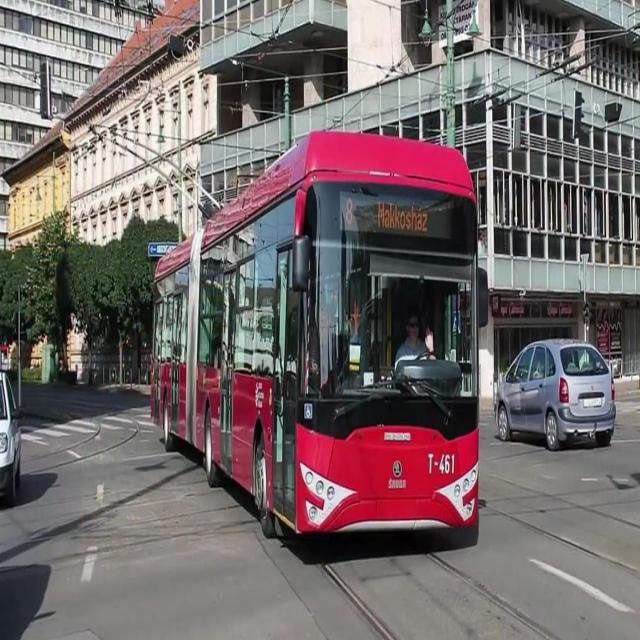bus: (149, 128, 487, 559)
